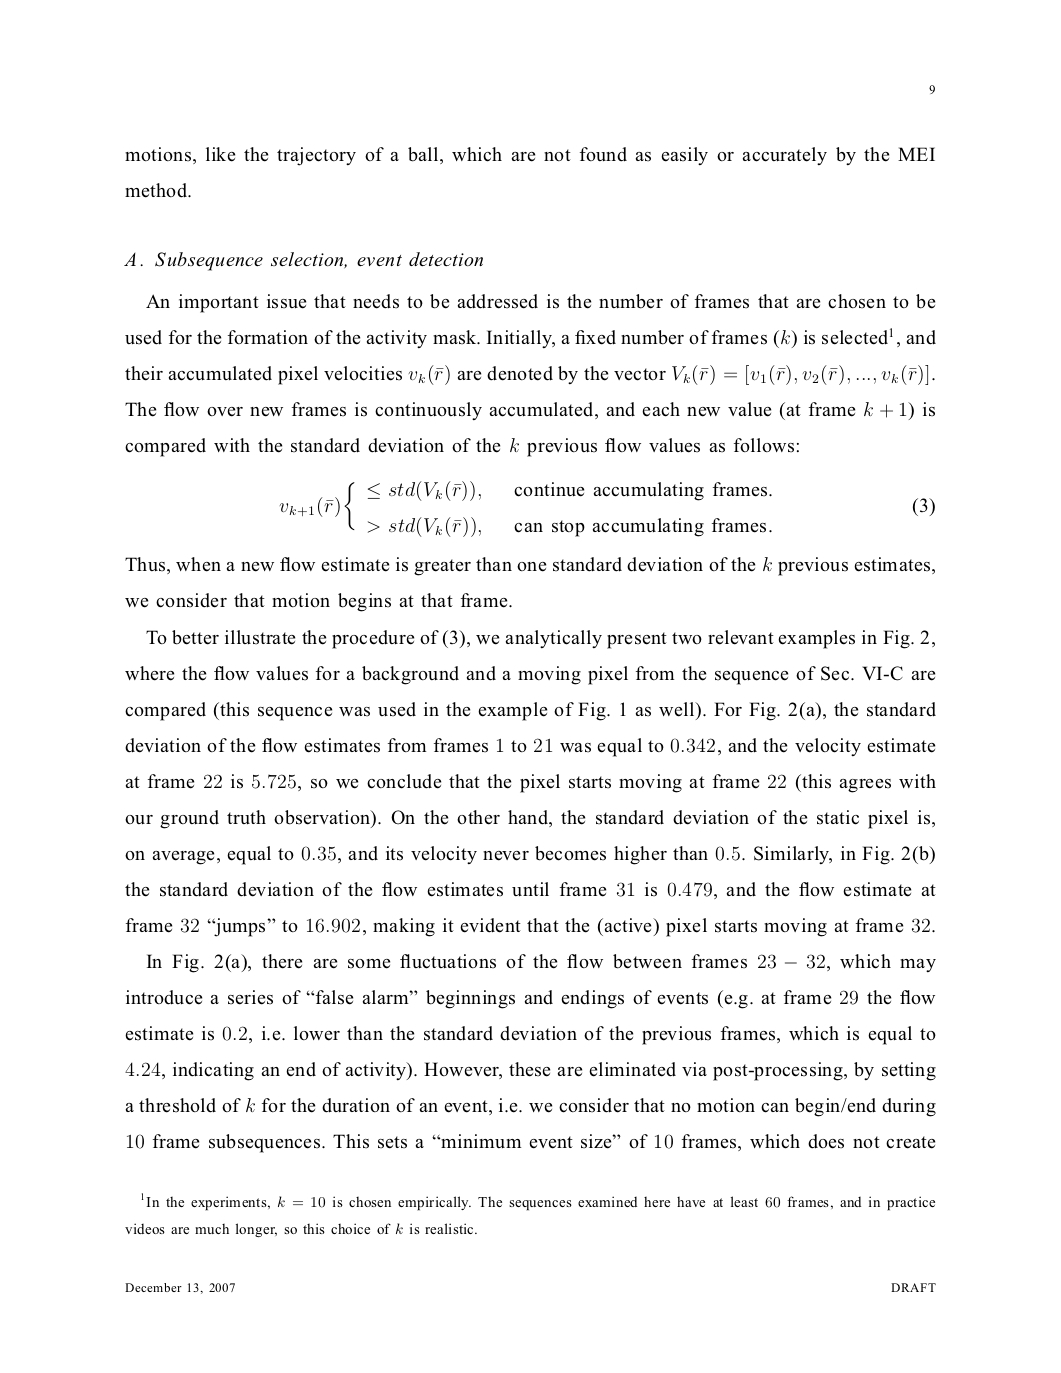formula: (279, 480, 934, 537)
